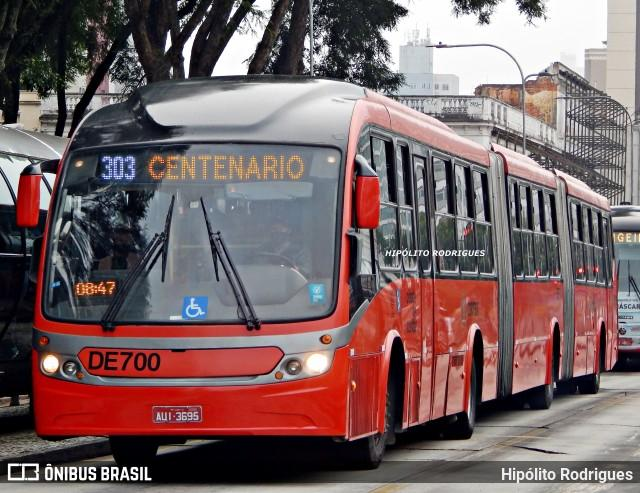CENTENARIO: (142, 149, 311, 185)
